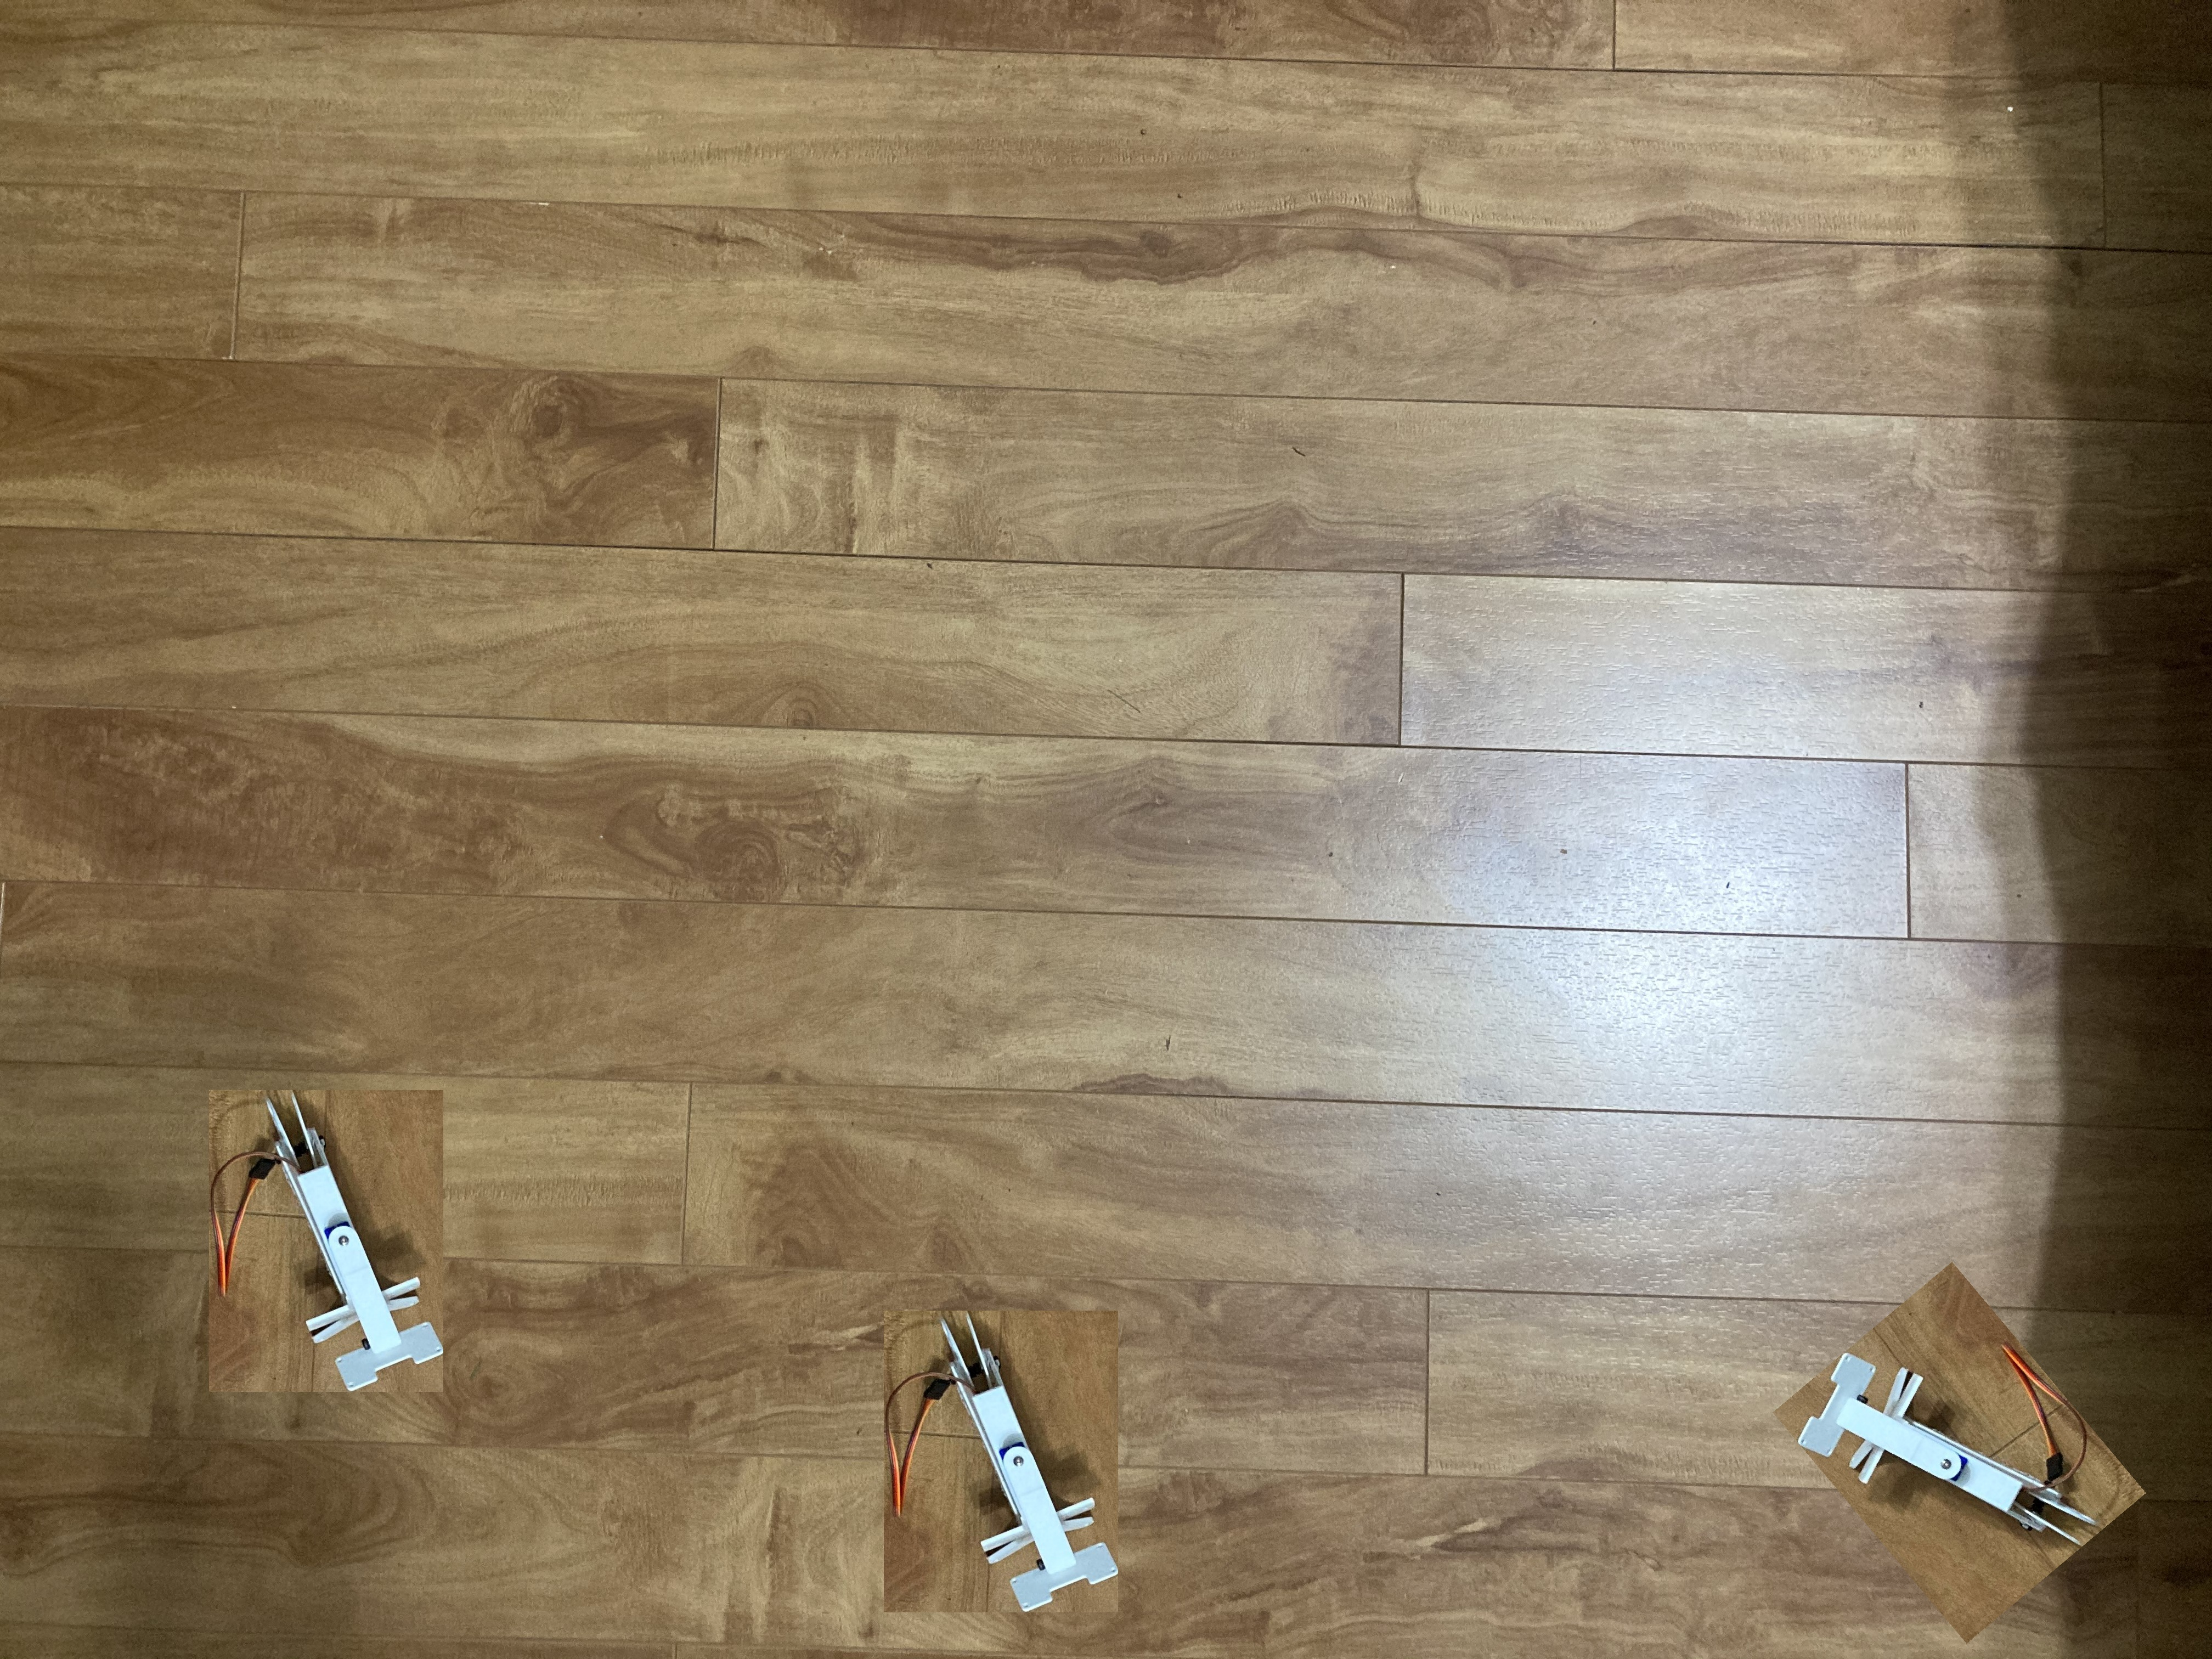robot: (1797, 1337, 2130, 1610), (214, 1084, 441, 1401), (911, 1304, 1129, 1610)
